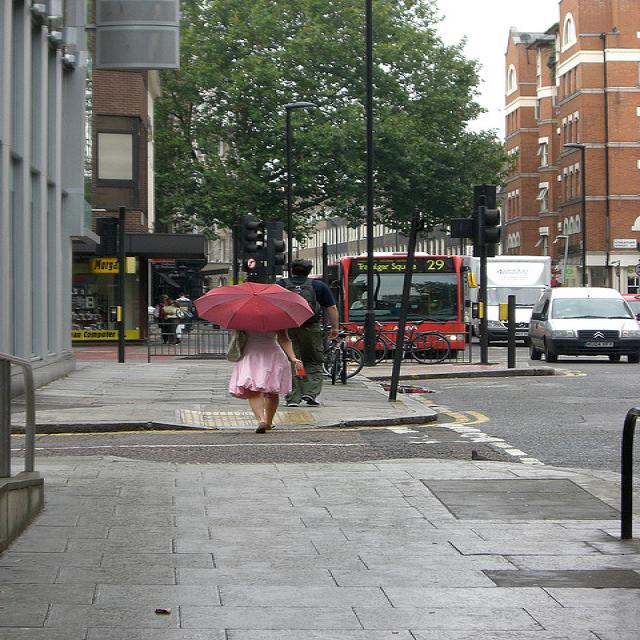Vehicle: (333, 252, 477, 360), (528, 286, 640, 364), (460, 255, 550, 343), (621, 293, 640, 301)
